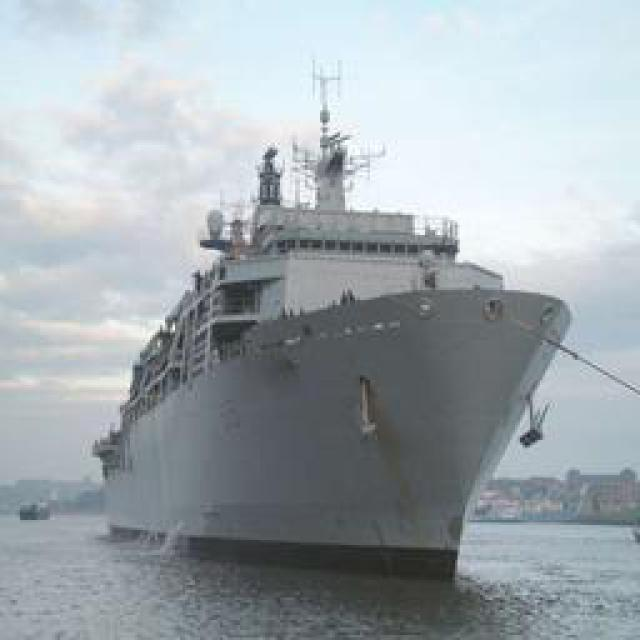Ship: (105, 229, 573, 569)
